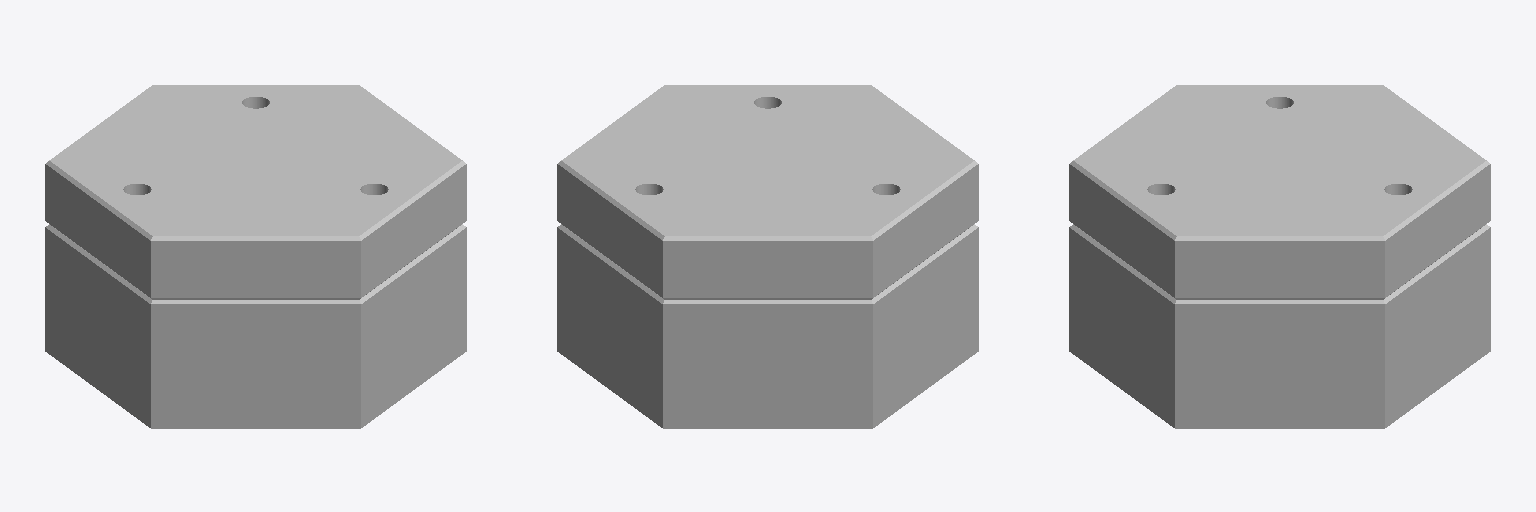
The model's file is lvl2B.obj.
The picture shows the model from 3 angles: view 1: azimuth 30°, elevation 25°; view 2: azimuth 150°, elevation 25°; view 3: azimuth 270°, elevation 25°; orthographic projection.
Visible parts, largest first — view 1: Lvl2B-3_(Mono-NoMags); view 2: Lvl2B-3_(Mono-NoMags); view 3: Lvl2B-3_(Mono-NoMags).
Boxes of the visible parts, x1,y1,x2,y2 form: Lvl2B-3_(Mono-NoMags): [45, 85, 466, 428]; Lvl2B-3_(Mono-NoMags): [557, 85, 978, 428]; Lvl2B-3_(Mono-NoMags): [1069, 85, 1490, 428].
Size of the model in its own units: 3.13 by 1.81 by 3.62.